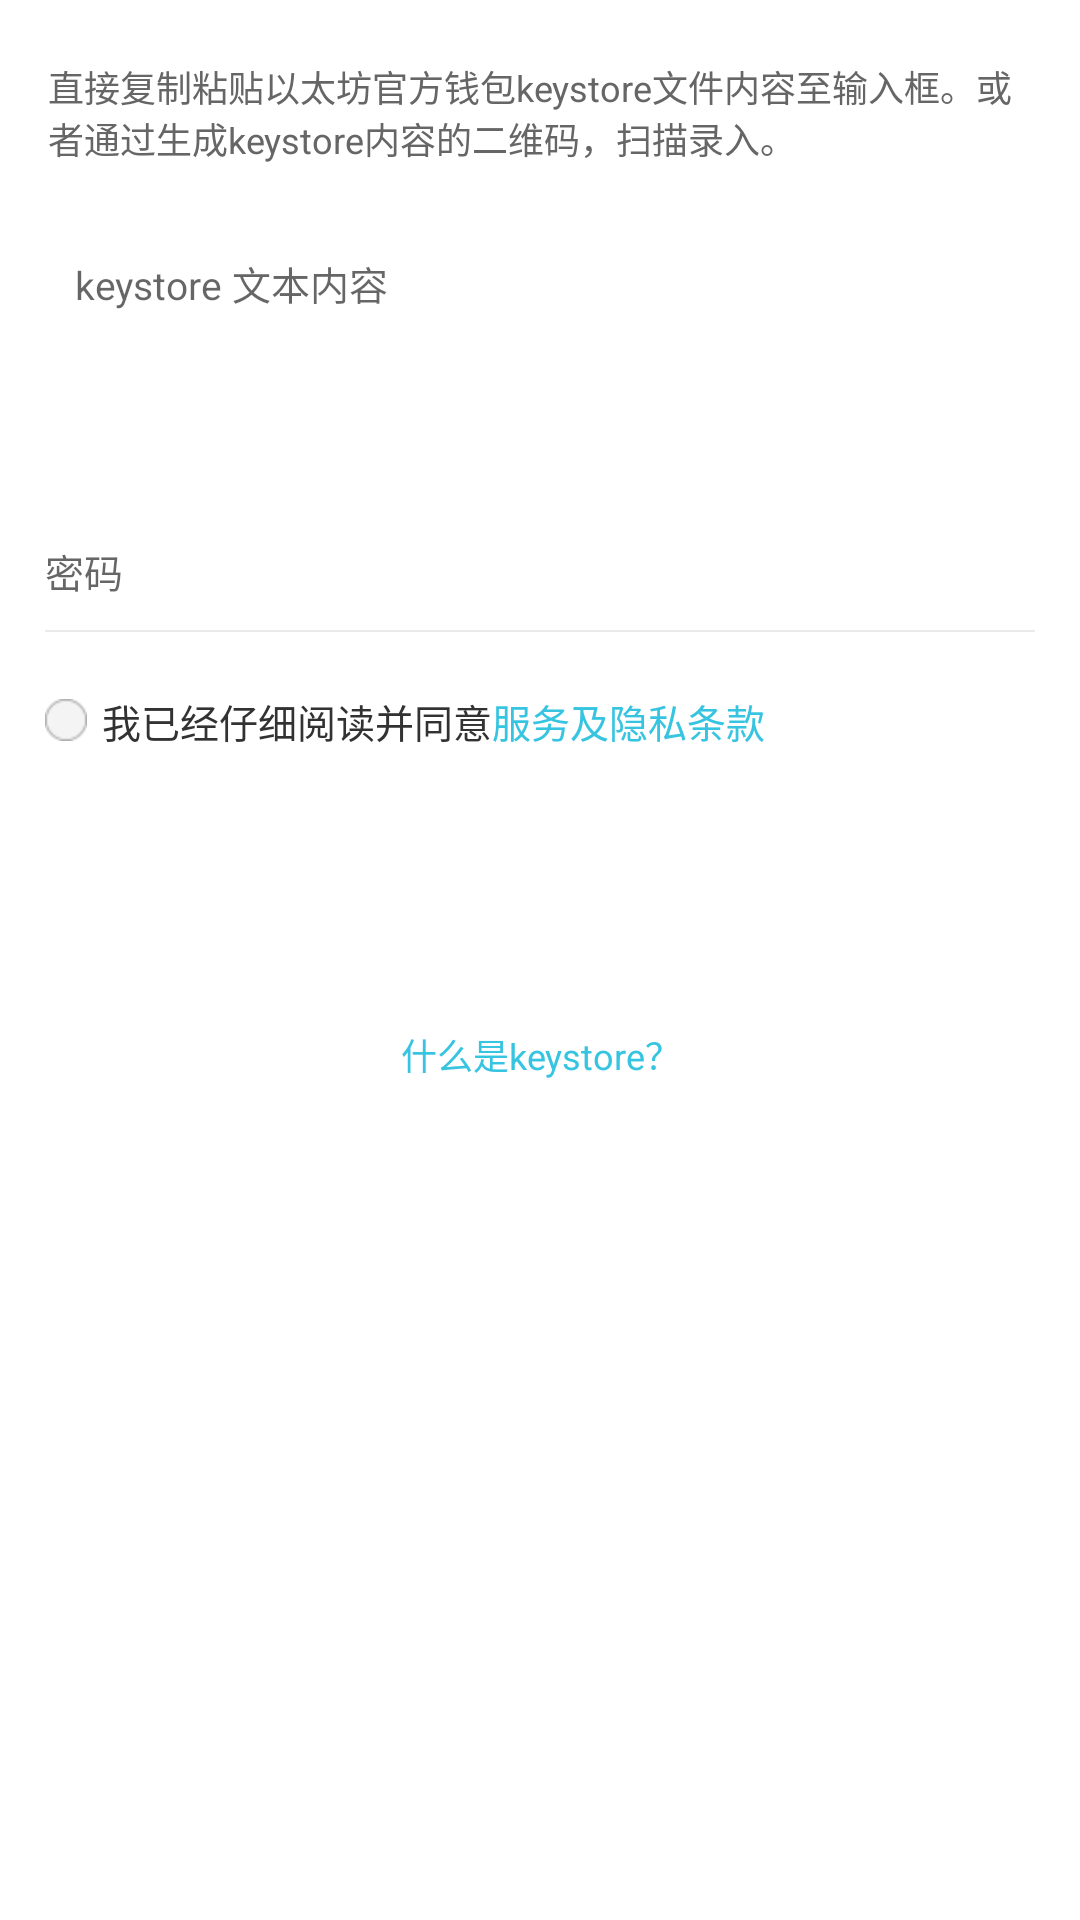

Where icons sit on this 1080px×1920px app screen, as (x1, y1, x2, y2):
agreement circle cb: (45, 699, 87, 741)
